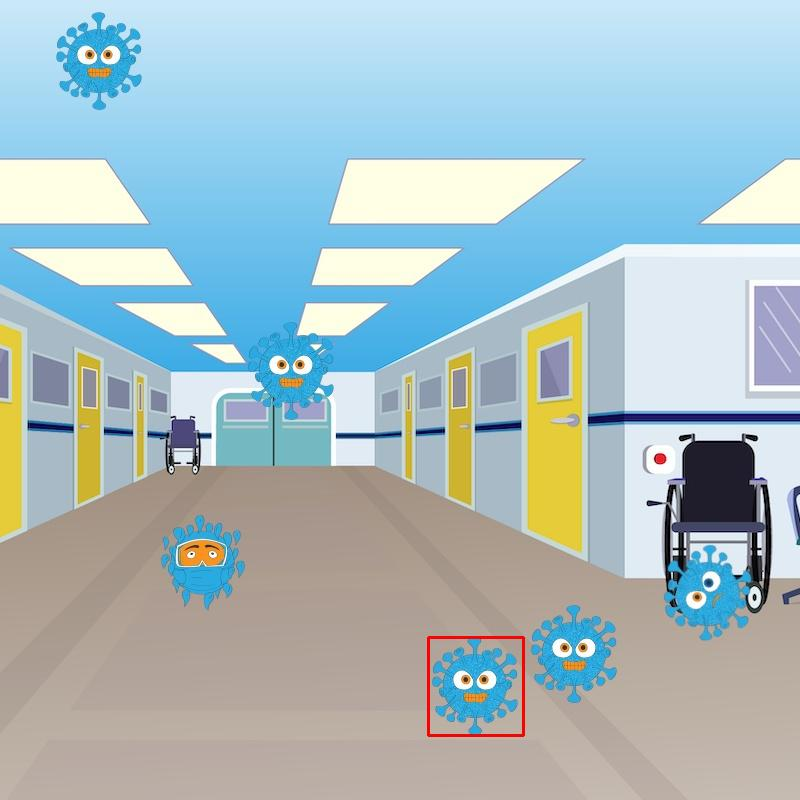corona1: (244, 315, 341, 430), (49, 10, 149, 106), (532, 603, 624, 705), (431, 640, 519, 734)
corona2: (658, 541, 760, 645)
doctor: (157, 515, 248, 607)
